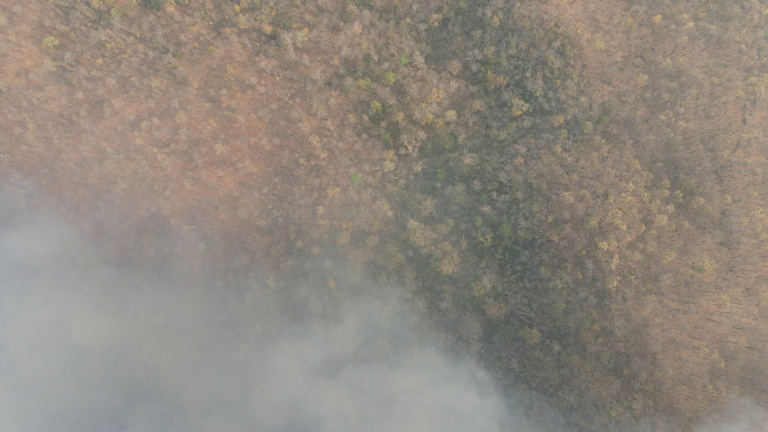fire: (134, 345, 182, 396)
smoke: (1, 248, 498, 431)
